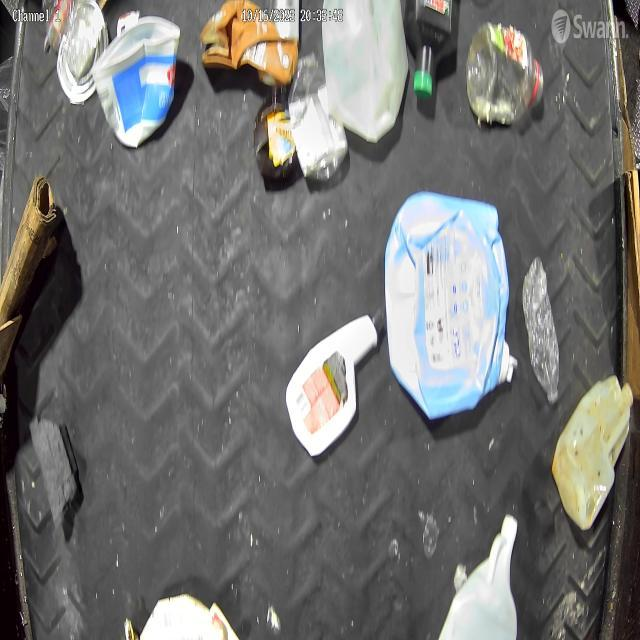milk_jug: (319, 0, 411, 144), (430, 514, 522, 640)
non_white_jug: (381, 192, 519, 426), (547, 364, 639, 540)
plastic_bottle: (466, 20, 547, 132), (288, 49, 348, 185), (519, 246, 564, 406)
